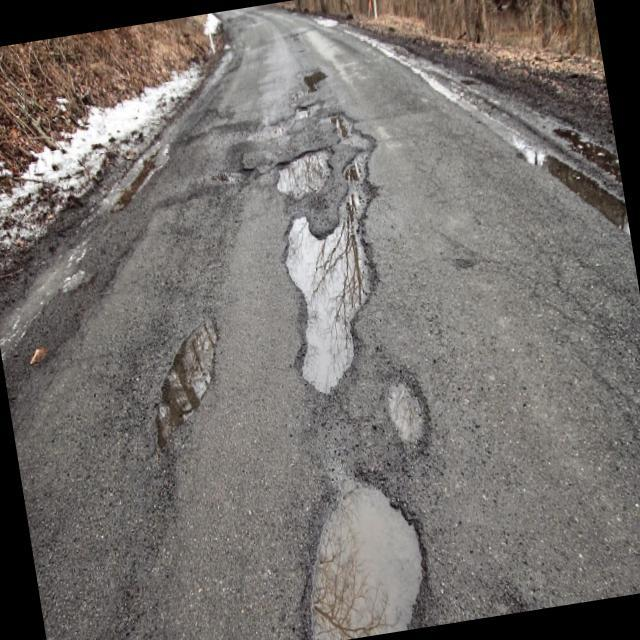Pothole: (277, 452, 438, 640), (273, 202, 392, 401), (140, 311, 234, 447), (376, 360, 440, 470), (272, 144, 340, 206), (339, 140, 375, 192), (249, 114, 296, 150), (323, 106, 358, 139), (220, 162, 254, 191), (302, 62, 328, 94), (292, 100, 315, 120)
